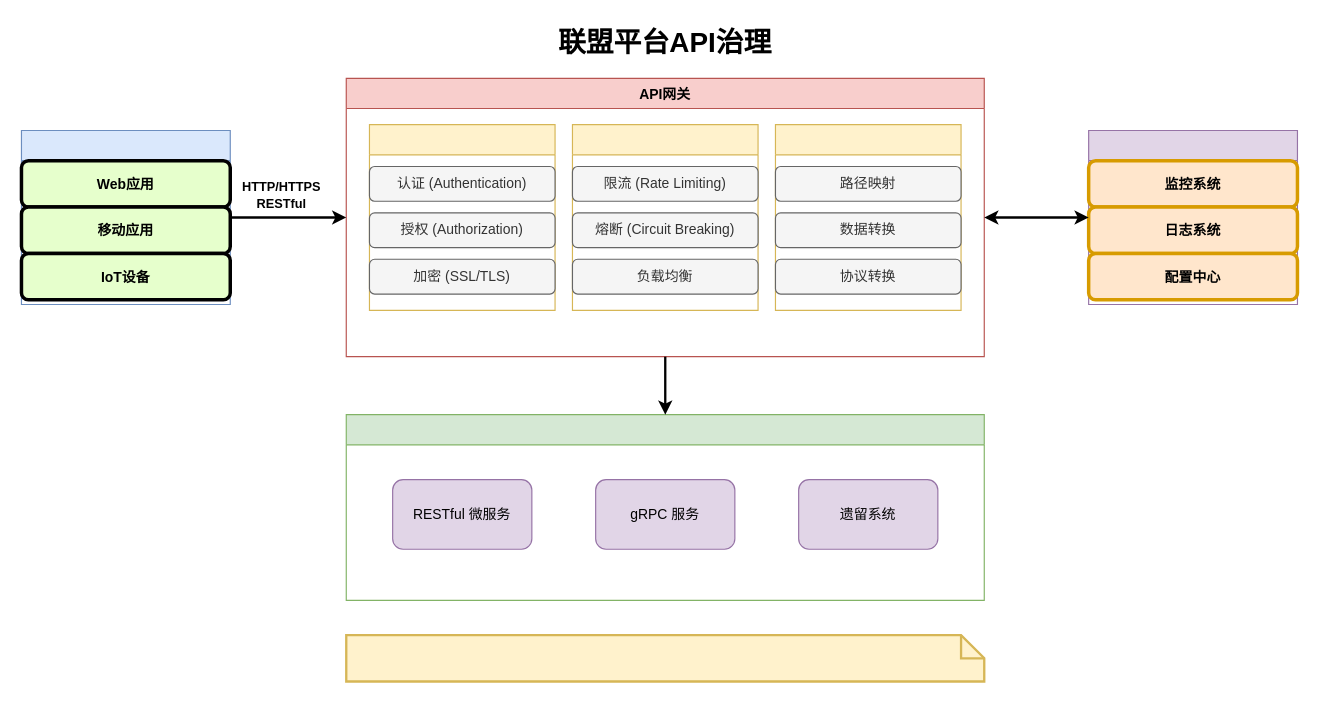
This 1319x702 diagram has some shape labels left out. Here are the shapes that lost their labels. From the top down, the box of each, then its label:
(20, 129, 230, 304): 客户端
(368, 124, 555, 310): 安全管理层
(571, 124, 758, 310): 流量控制层
(774, 124, 961, 310): 请求路由层
(1088, 129, 1297, 304): 支持系统
(345, 414, 984, 600): 后端服务
(345, 633, 985, 682): 协议标准：RESTful API, HTTP/HTTPS
